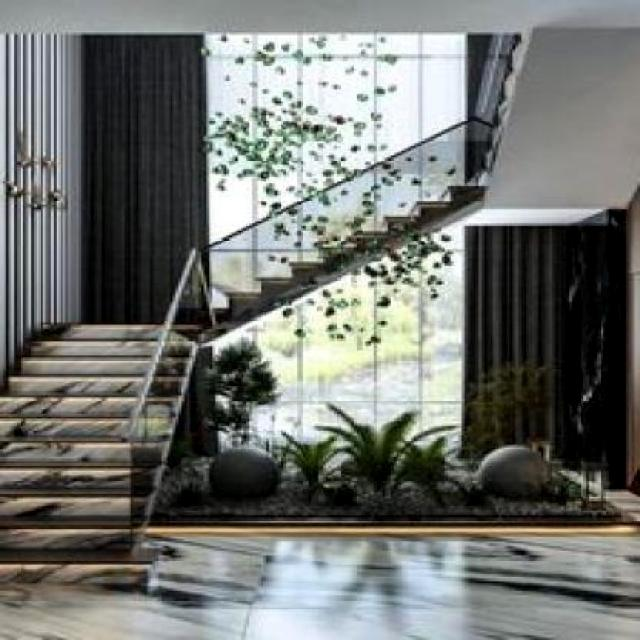stair: (2, 244, 184, 588)
